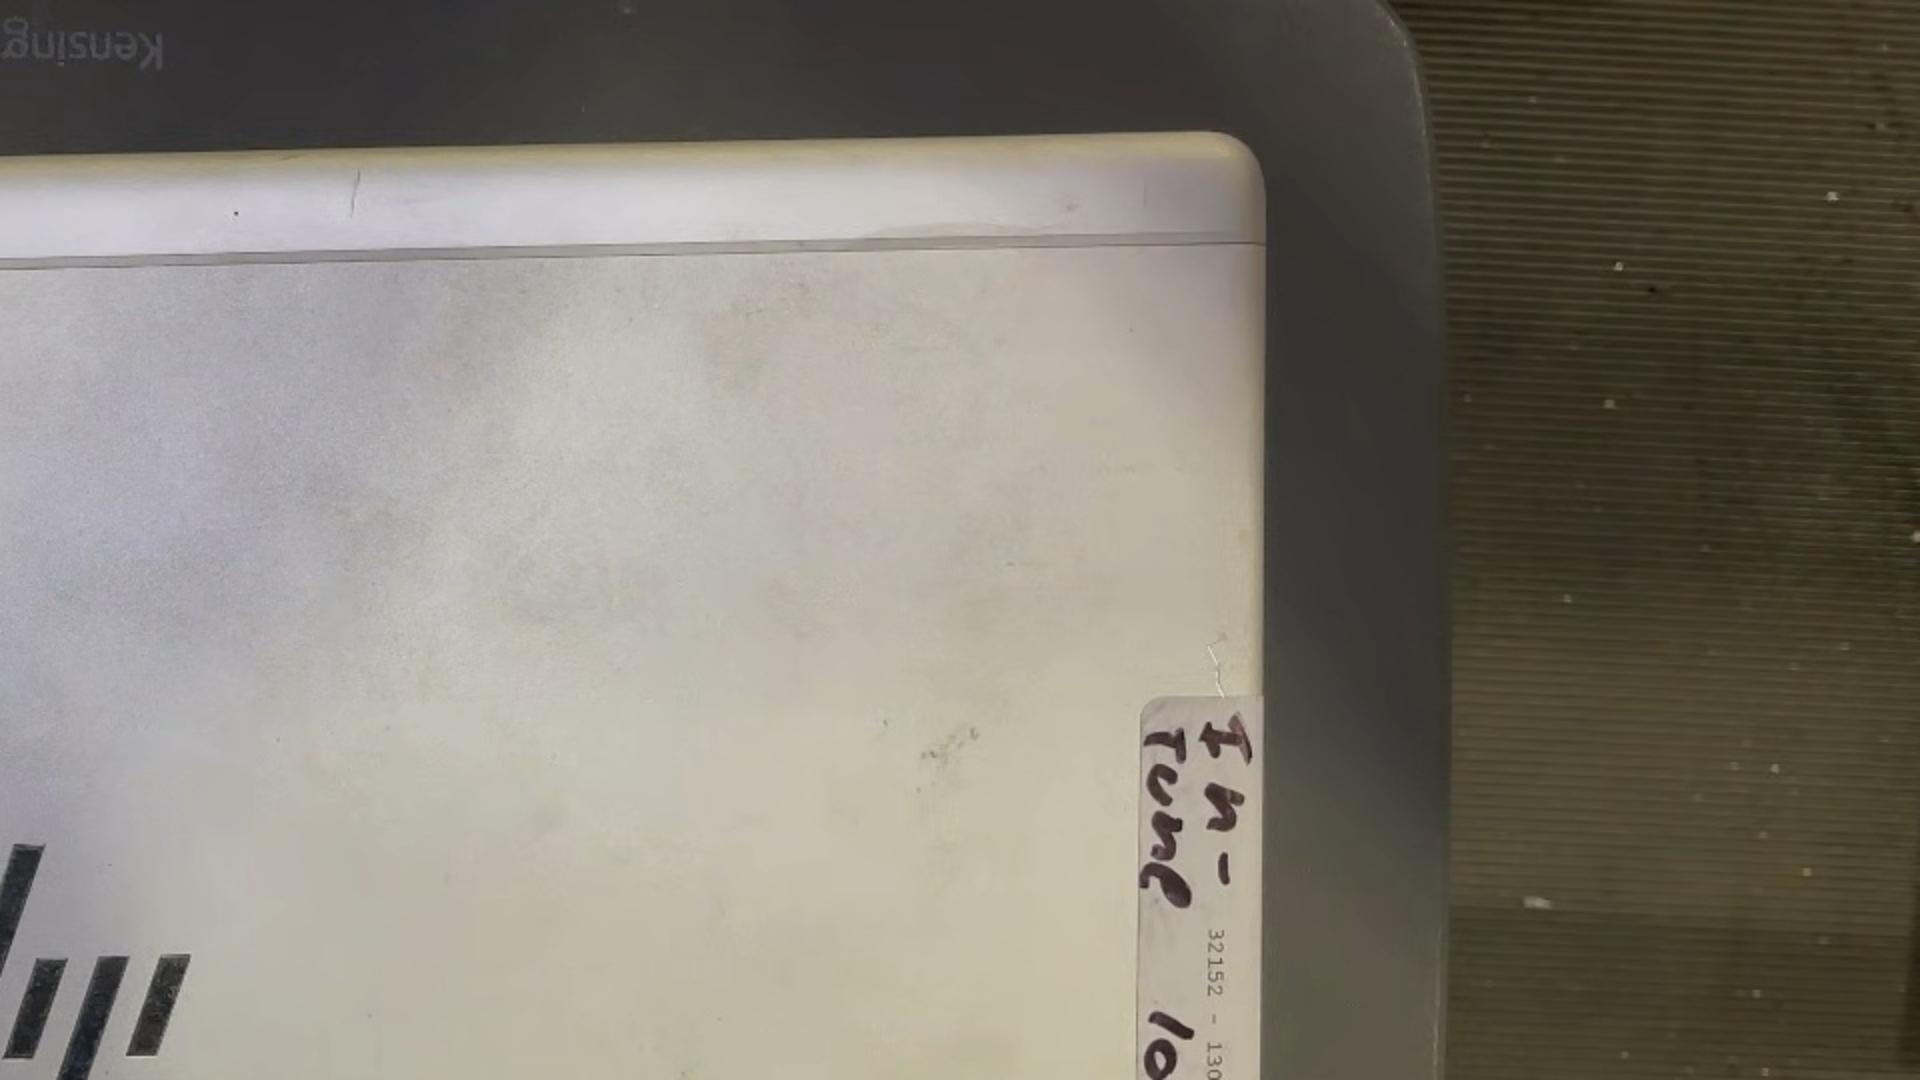scratches: (1204, 646, 1228, 696), (347, 167, 363, 220)
